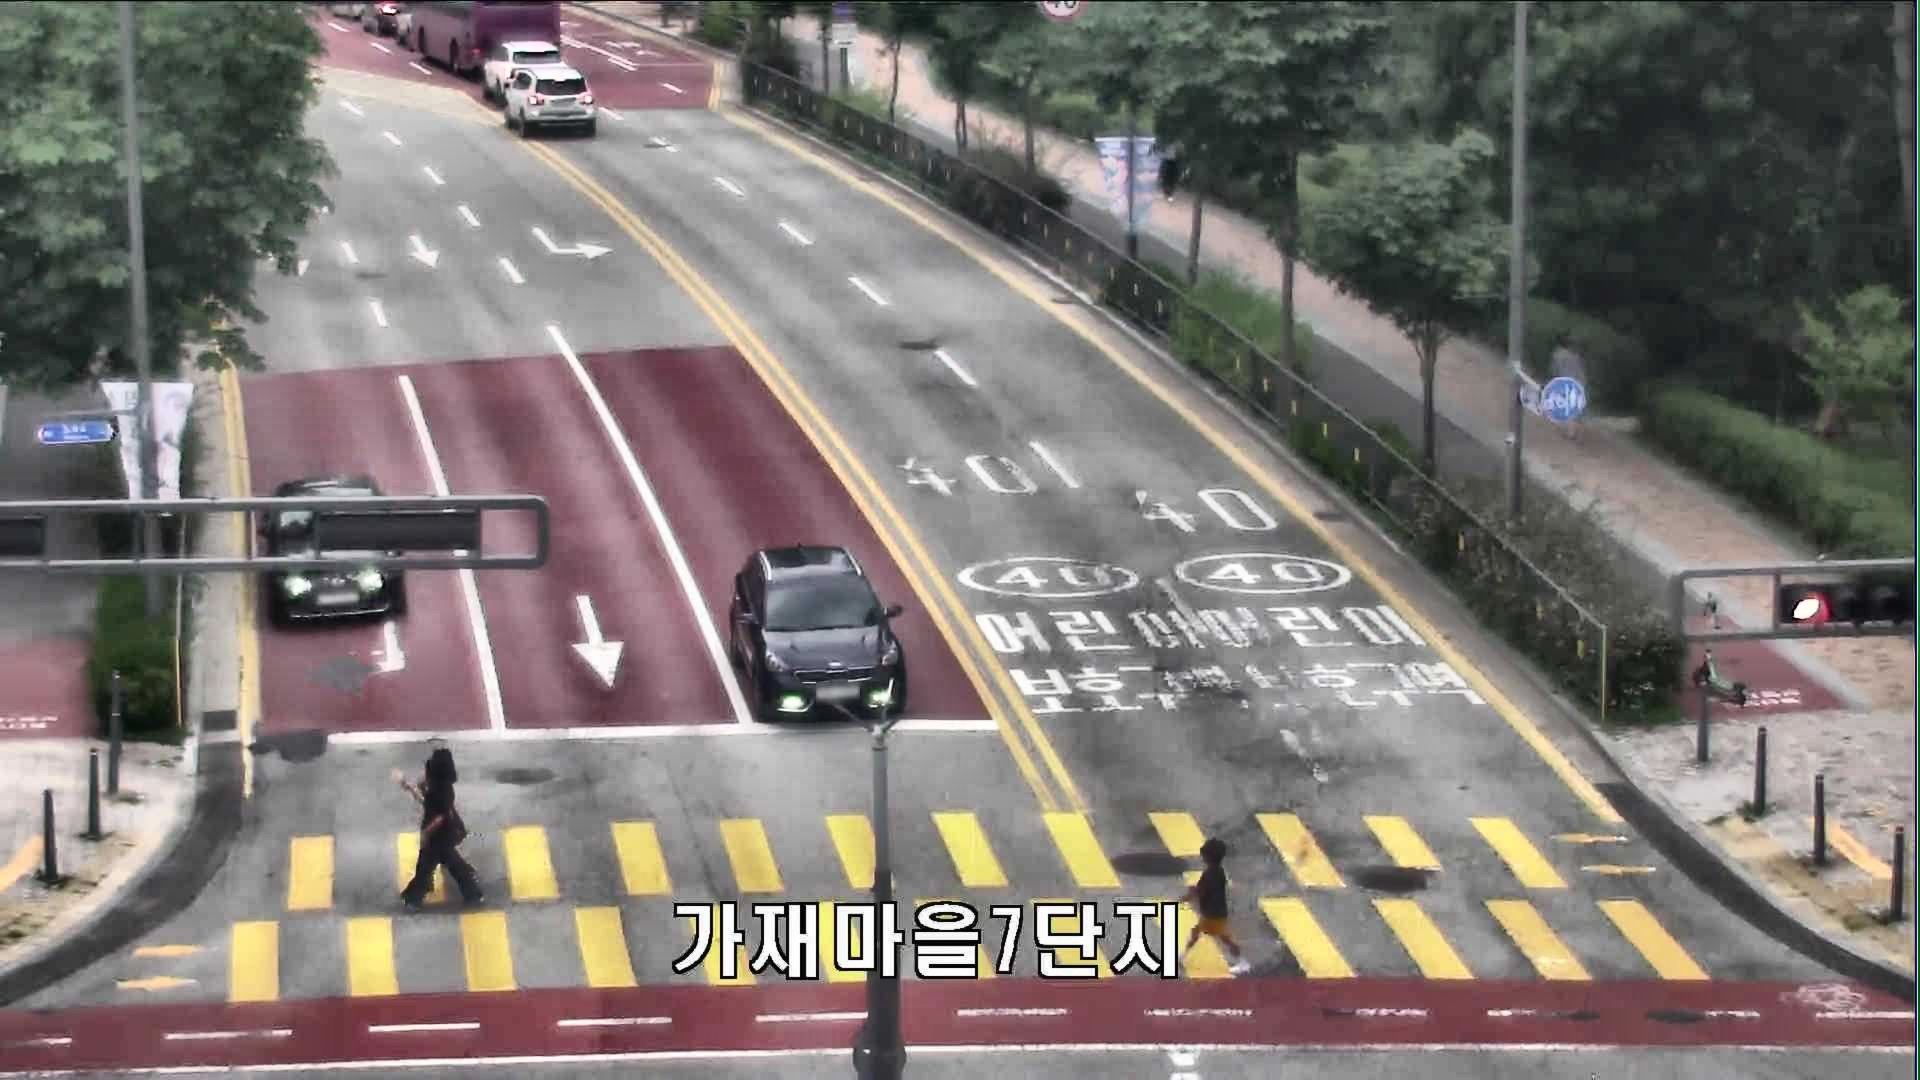crosswalk: (392, 756, 487, 910), (1170, 835, 1254, 976)
